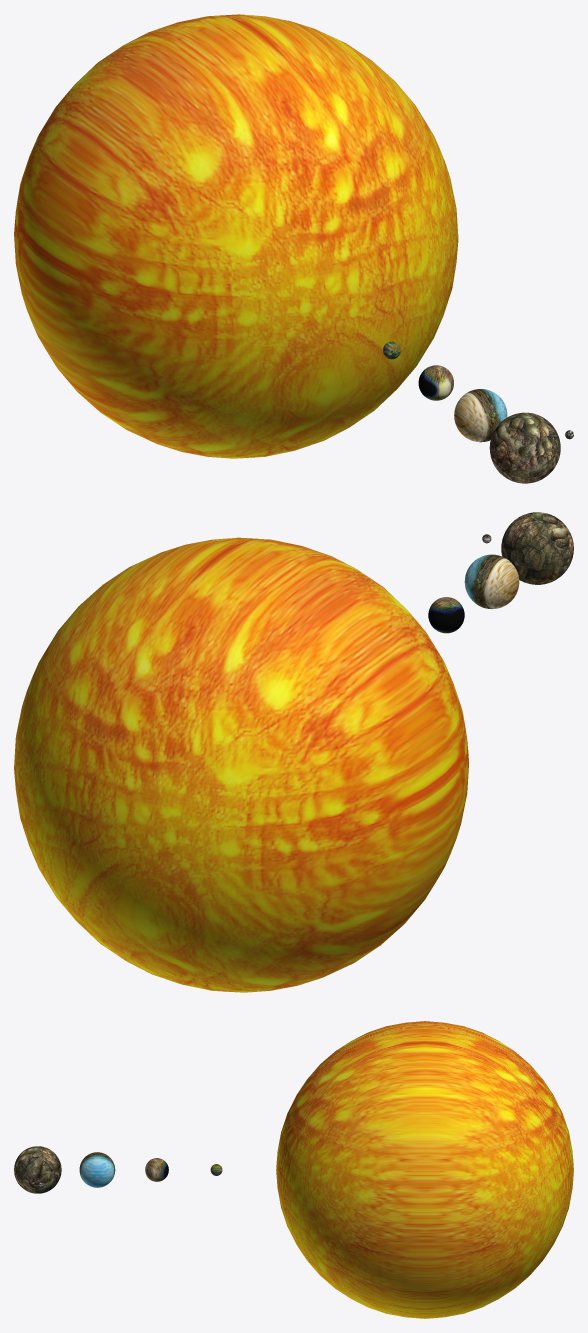
Rendered from SolarSystemScene.gltf.
The picture shows the model from 3 angles, top to bottom: view 1: azimuth 30°, elevation 25°; view 2: azimuth 150°, elevation 25°; view 3: azimuth 270°, elevation 25°; orthographic projection. The views are drawn at different scales.
Visible parts, largest first — view 1: Node (×4); view 2: Node (×4); view 3: Node (×4).
Part boxes in pixels (left/top/right/bottom): Node (×4): left=14, top=14, right=560, bottom=483; Node (×4): left=14, top=512, right=573, bottom=992; Node (×4): left=14, top=1021, right=573, bottom=1318.
Bounding box in the file's own units: 50 × 50 × 94.
6 materials, 6 textured.
